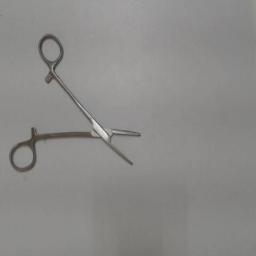Mayo Needle Holder: (8, 25, 148, 177)
